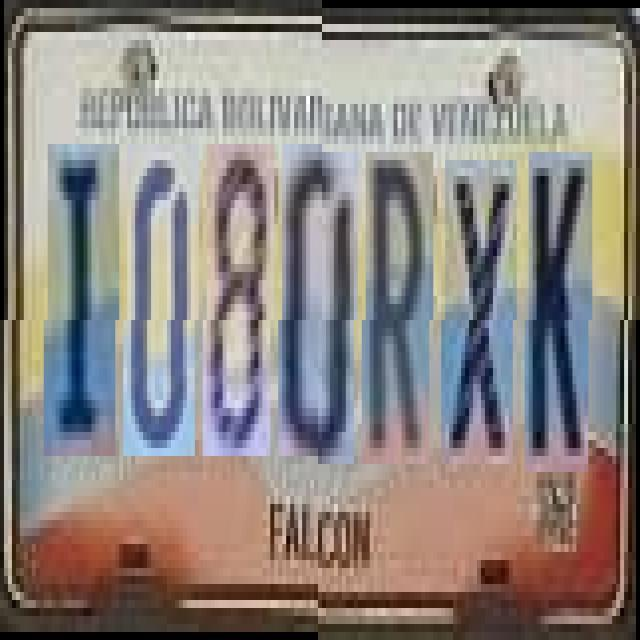0: (282, 152, 358, 464), (128, 152, 198, 464)
8: (207, 152, 274, 464)
I: (48, 152, 120, 464)
K: (528, 152, 592, 472)
R: (366, 152, 434, 464)
X: (445, 160, 517, 464)
